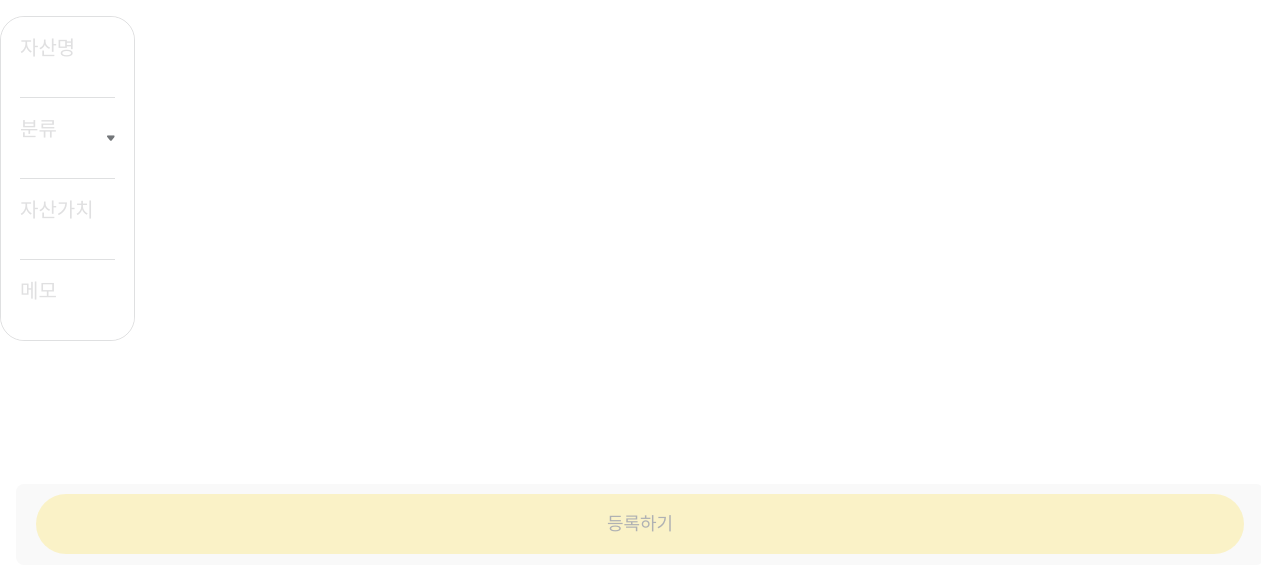
it: RegisterAssetForm › 자산명 Placeholder는 “예) 현금, 금, 빌린 돈”입니다.
Click the button with test id "button-assetName" at (67, 56), box [1,16,134,96]
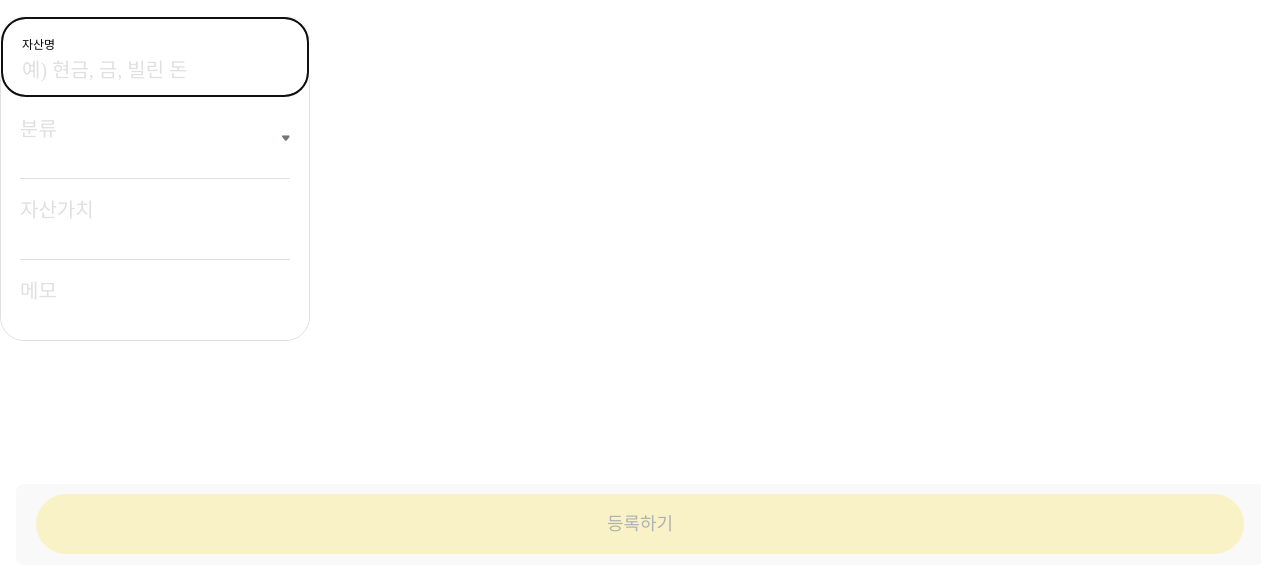
expect the field with placeholder "예) 현금, 금, 빌린 돈" is shown: met, box [22,56,267,84]
